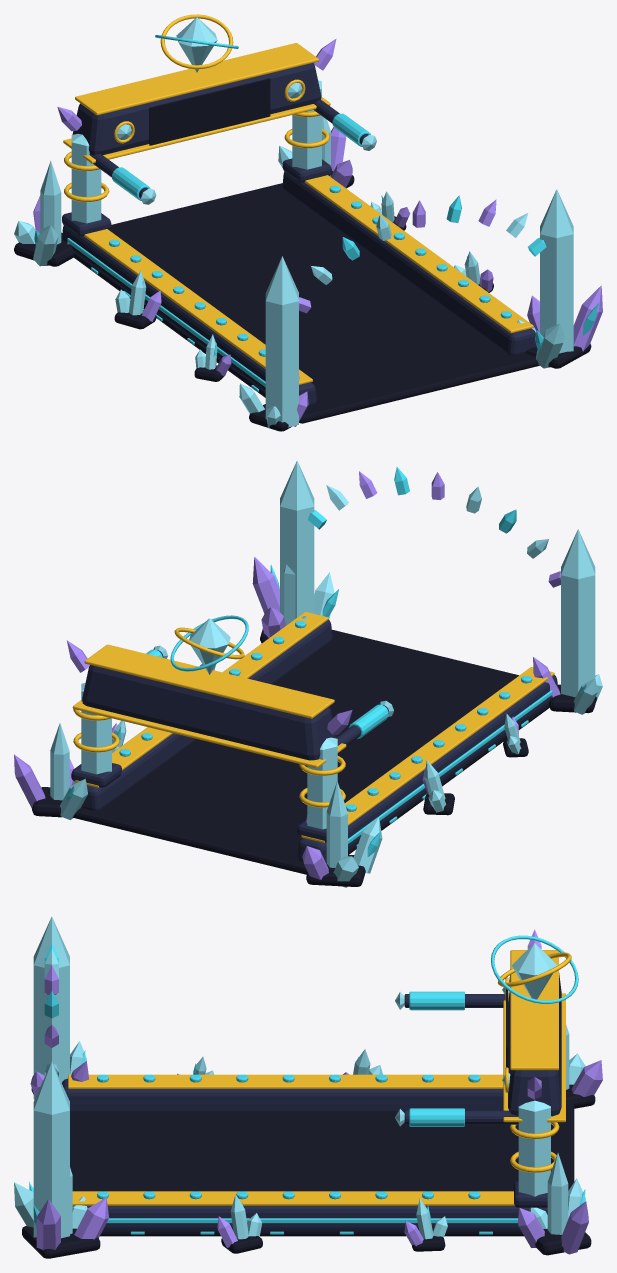
File: Treadmill_Cristal.fbx
The picture shows the model from 3 angles, top to bottom: view 1: azimuth 30°, elevation 25°; view 2: azimuth 150°, elevation 25°; view 3: azimuth 270°, elevation 25°; orthographic projection. The views are drawn at different scales.
Visible parts, largest first — view 1: Deep, Crystal, Gold.001, Navy, CrystalViolet, Glow.002; view 2: Deep, Crystal, Navy, Gold.001, Glow.002, CrystalViolet; view 3: Deep, Navy, Crystal, Gold.001, Glow.002, CrystalViolet.
Boxes of the visible parts, x1,y1,x2,y2 form: Deep: (14, 78, 591, 431); Crystal: (14, 17, 573, 428); Gold.001: (63, 14, 533, 384); Navy: (62, 63, 536, 405); CrystalViolet: (33, 38, 602, 426); Glow.002: (34, 35, 598, 391); Deep: (32, 629, 596, 886); Crystal: (50, 460, 602, 887); Navy: (71, 619, 557, 861); Gold.001: (72, 612, 554, 842); Glow.002: (66, 467, 586, 856); CrystalViolet: (14, 471, 560, 879); Deep: (22, 989, 595, 1258); Navy: (61, 973, 561, 1230); Crystal: (14, 916, 585, 1239); Gold.001: (68, 950, 571, 1205); Glow.002: (29, 935, 585, 1234); CrystalViolet: (30, 929, 602, 1254).
Size of the model in its own units: 18.74 by 10.91 by 25.37.
